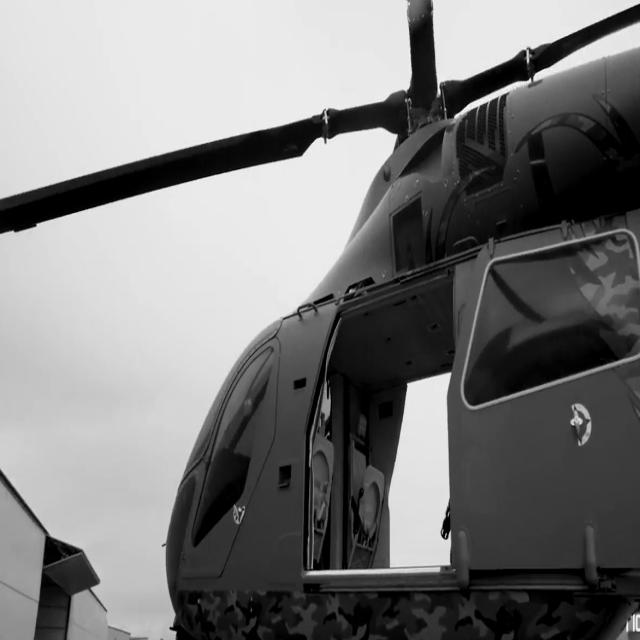helicopter: (88, 21, 640, 640)
